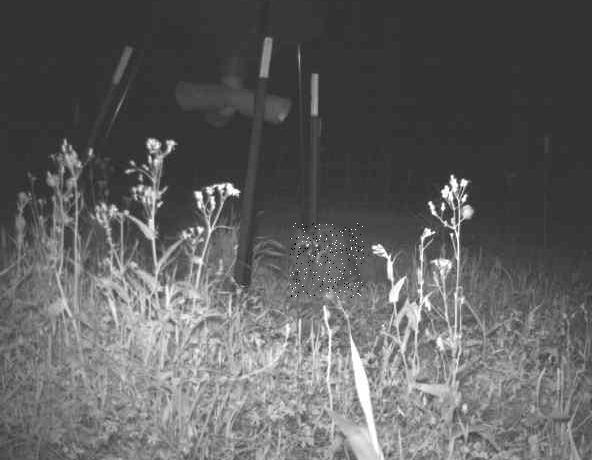Raccoon: (290, 223, 364, 299)
